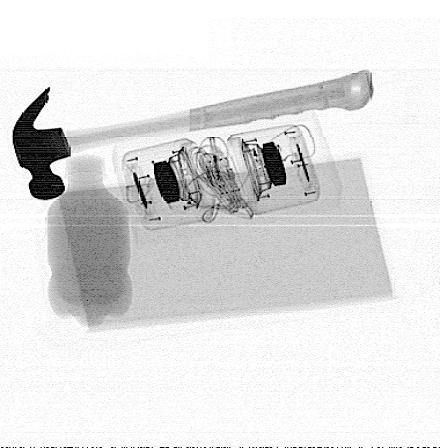Hammer: (11, 68, 375, 201)
